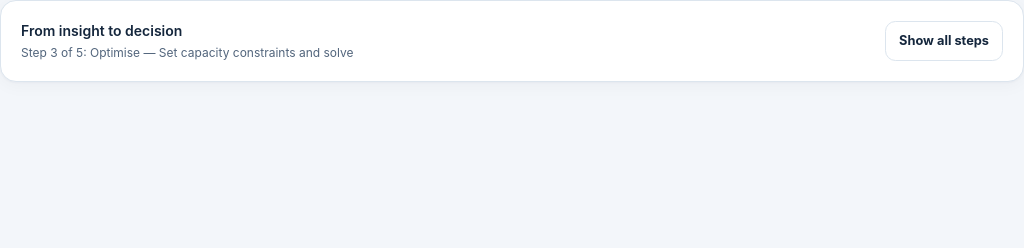
Test case: links each stage and announces the active workflow stage
Check: the navigation bar named "guided operational workflow" is shown, box x1=0 y1=0 x2=1023 y2=82
Check: the text "Step 3 of 5: Optimise — Set capacity constraints and solve" is shown, box x1=21 y1=45 x2=354 y2=61
Click the button "Show all steps" at (944, 41), box x1=885 y1=21 x2=1003 y2=61
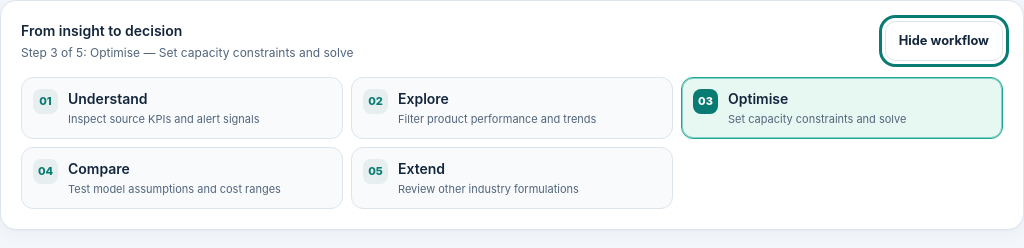
Check: the button named "show all steps" is expanded, box x1=885 y1=21 x2=1003 y2=61
